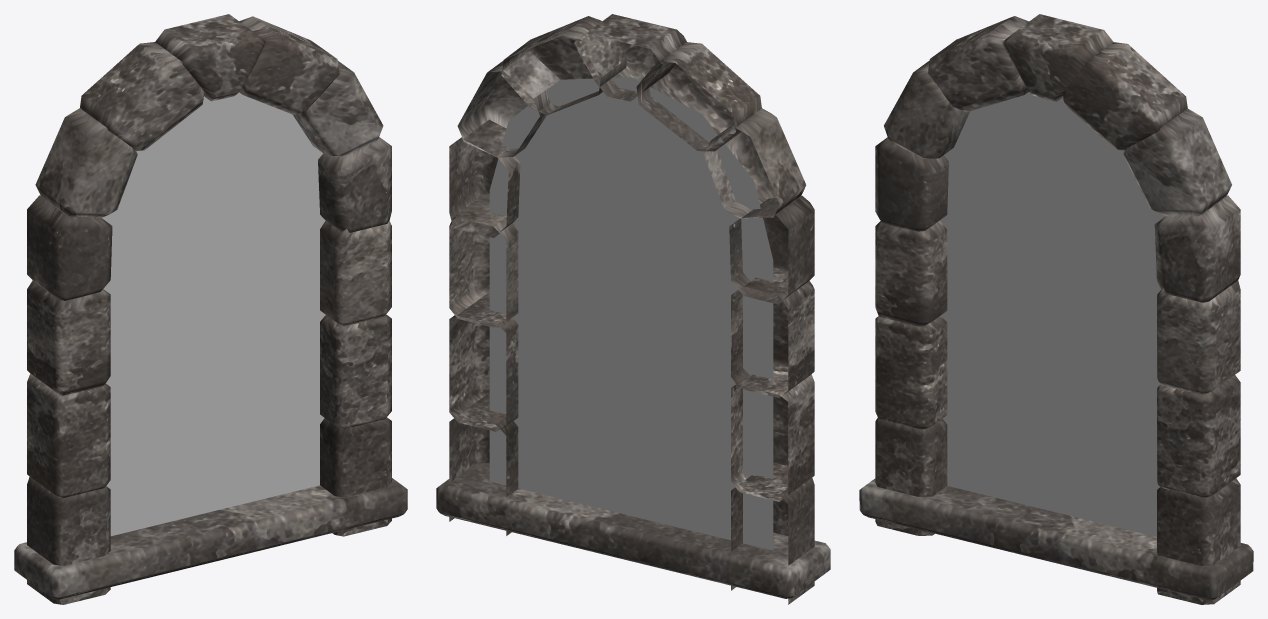
The model's file is DoorStone.fbx.
3 renders of one model, left to right at view 1: azimuth 30°, elevation 25°; view 2: azimuth 150°, elevation 25°; view 3: azimuth 330°, elevation 25°, orthographic.
Parts seen in each view (by area): view 1: Mesh; view 2: Mesh; view 3: Mesh.
Boxes of the visible parts, x1,y1,x2,y2 form: Mesh: (14, 14, 407, 604); Mesh: (436, 14, 830, 604); Mesh: (859, 14, 1253, 604).
Size of the model in its own units: 146 by 203 by 29.53.
